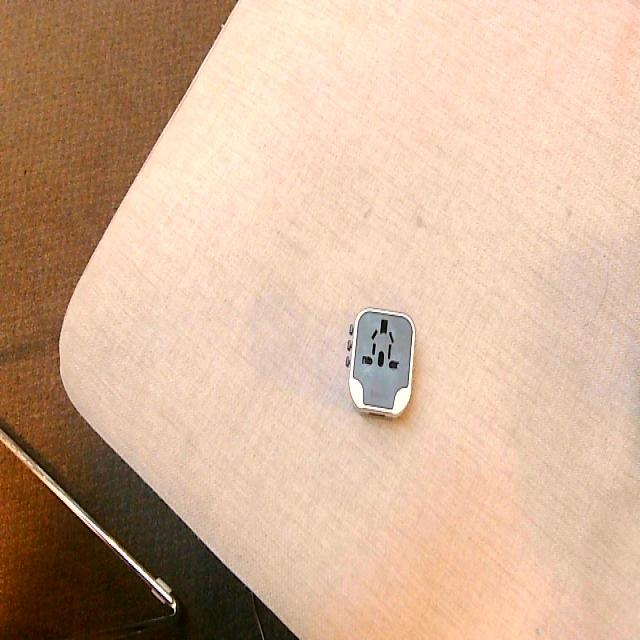adapter: (345, 305, 415, 419)
